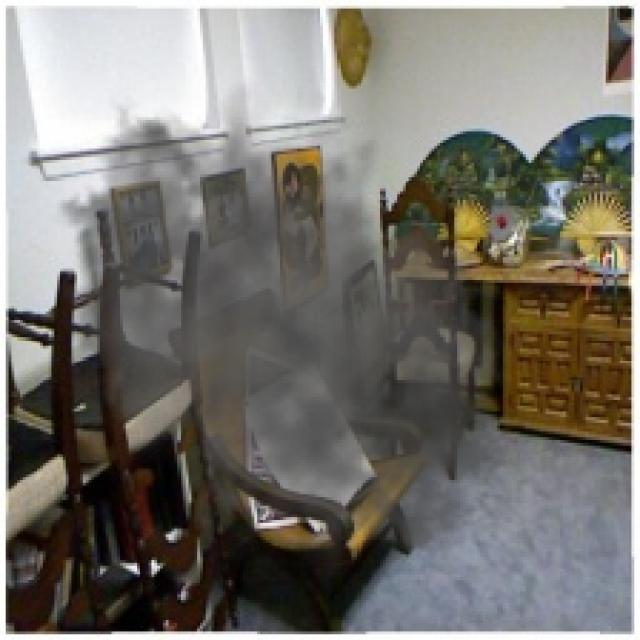smoke: (26, 77, 543, 592)
